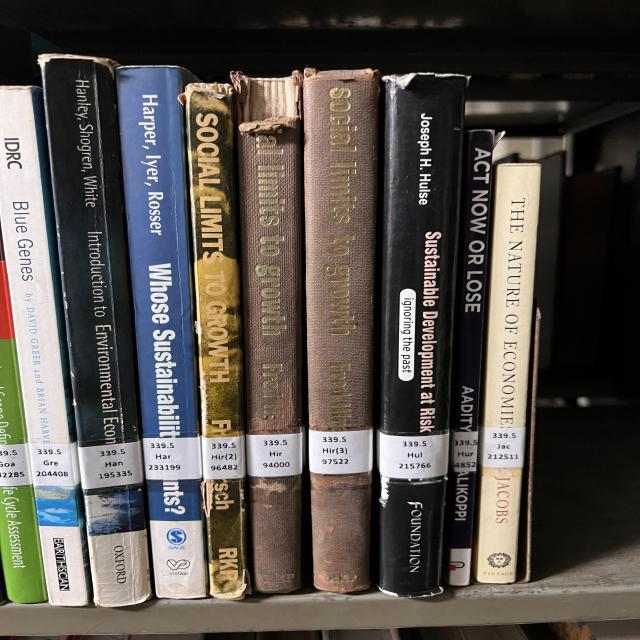Book: (40, 55, 152, 608), (117, 66, 207, 599), (0, 86, 92, 606), (378, 74, 468, 598), (303, 70, 380, 592), (232, 72, 303, 592), (180, 84, 250, 599), (473, 164, 540, 584), (447, 130, 497, 585)
Label: (378, 431, 448, 479), (78, 441, 143, 489), (308, 429, 373, 474), (245, 432, 303, 478), (143, 436, 202, 480), (28, 442, 80, 486), (202, 436, 245, 479), (482, 428, 525, 468), (452, 431, 478, 472)
